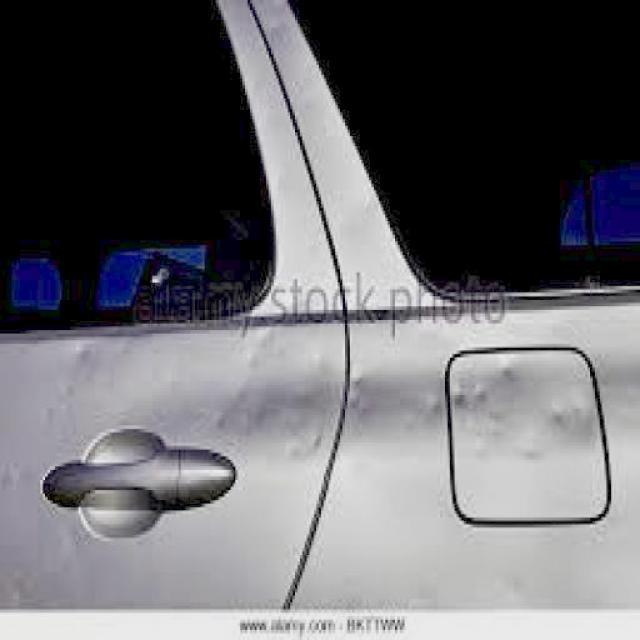car damage: (1, 327, 615, 609)
